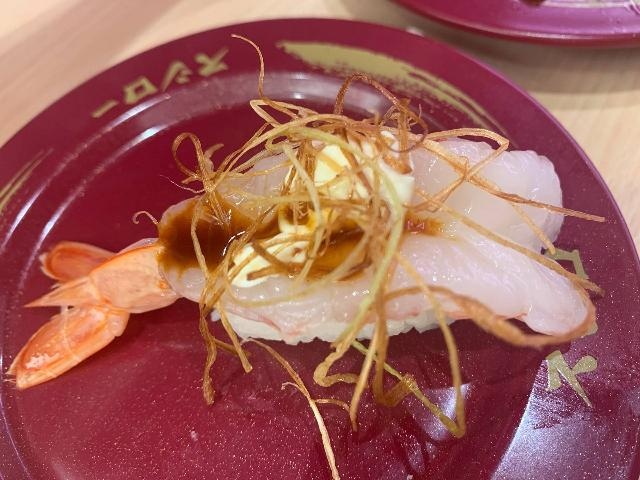janred: (18, 48, 626, 476), (366, 0, 640, 67)
